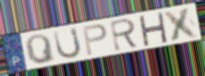H: (137, 12, 169, 47)
P: (81, 23, 109, 57)
Q: (24, 33, 57, 66)
R: (109, 17, 141, 53)
U: (52, 26, 83, 60)
X: (162, 5, 201, 42)
